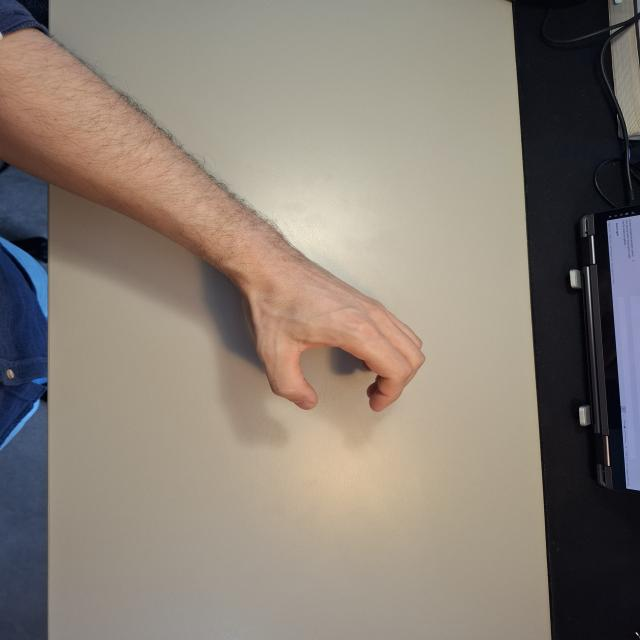glove_off: (238, 264, 428, 414)
